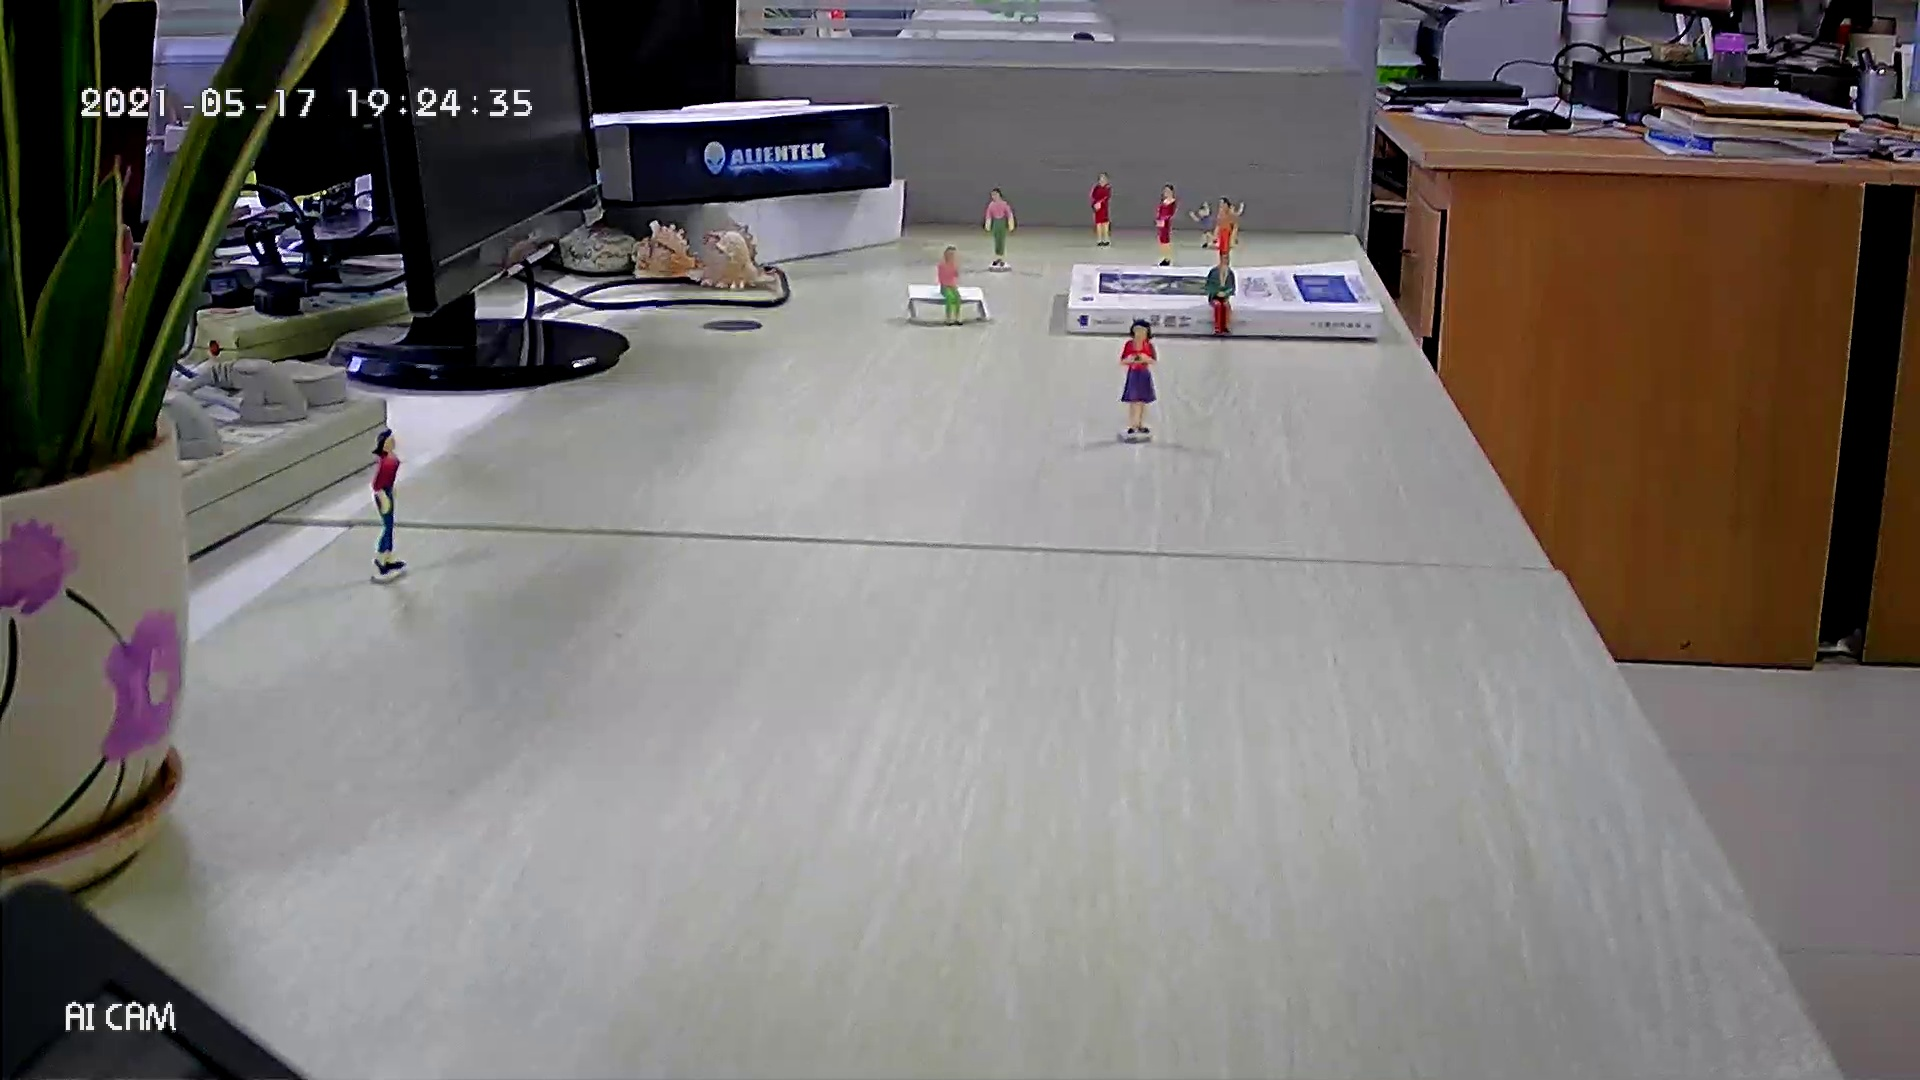person: (370, 428, 406, 576), (1117, 320, 1158, 436), (1203, 251, 1237, 339), (983, 186, 1016, 267), (937, 244, 966, 328), (1153, 183, 1179, 267), (1089, 170, 1112, 248), (1189, 202, 1219, 250), (1213, 200, 1234, 264), (1226, 198, 1247, 248)
